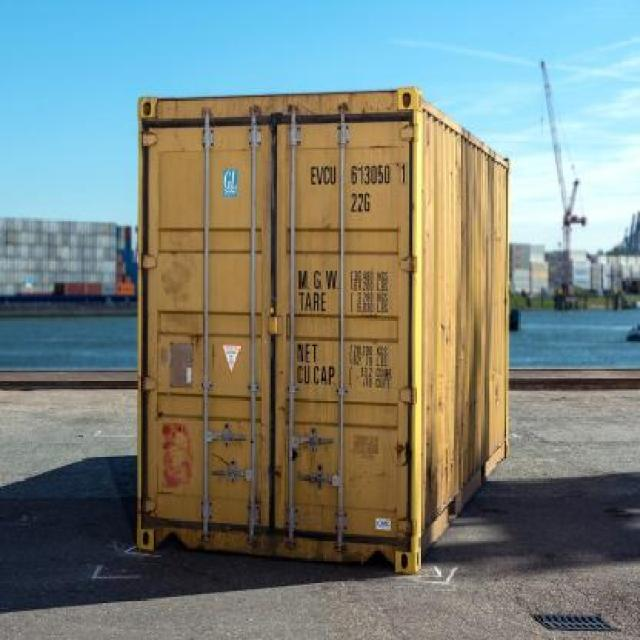ISO: (347, 192, 375, 214)
container_number: (310, 164, 408, 184)
